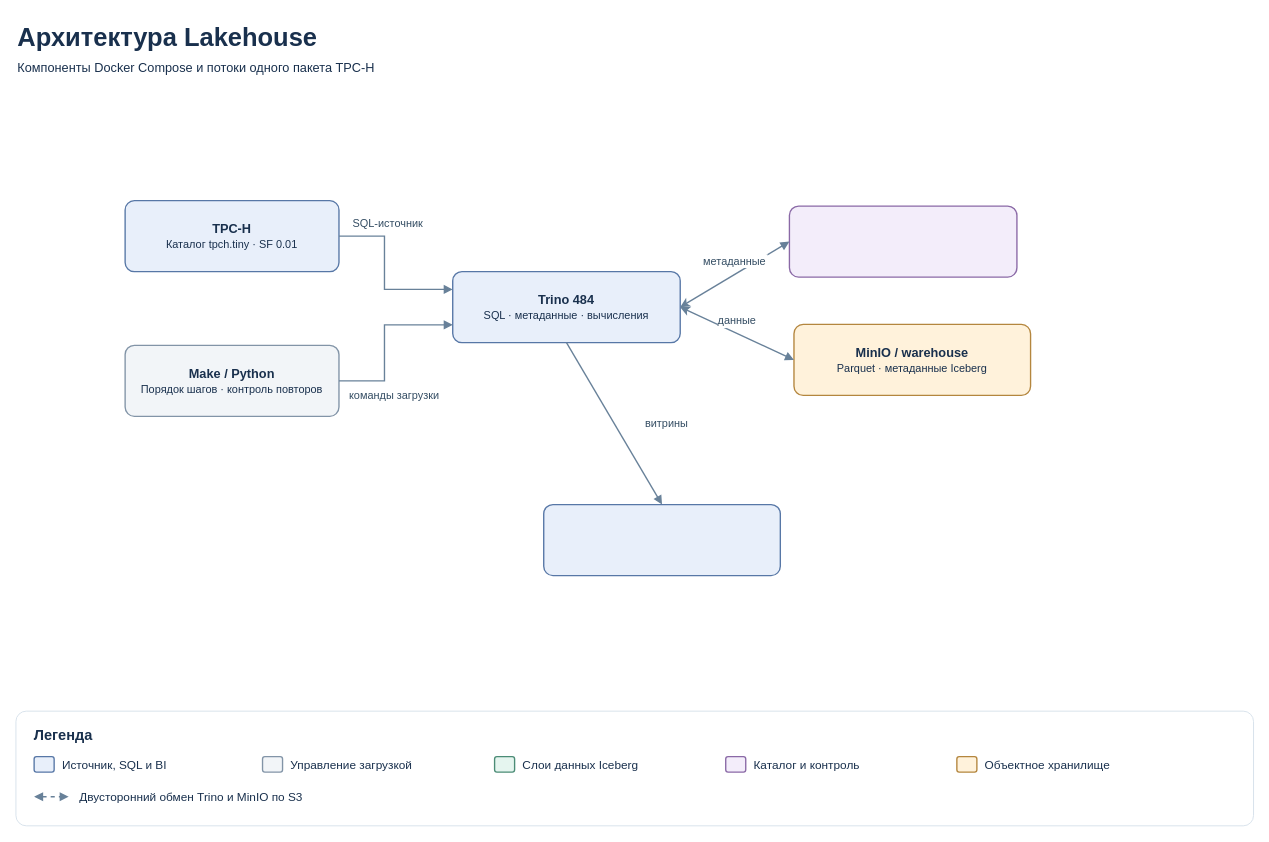
Image size: 1269x842. Some labels were removed from this diagram. The shapes that lost their labels are listed below. From the top down, each one's box as (x1, y1, x2, y2) in pixels, then its label:
(788, 205, 1017, 277): Iceberg REST Catalog SQLite · указатели на метаданные
(543, 504, 781, 576): Superset Качество данных · Бизнес-аналитика
